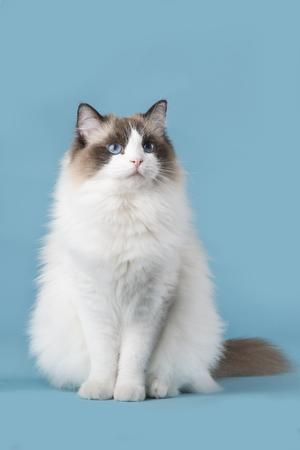ragdoll: (65, 90, 184, 211)
